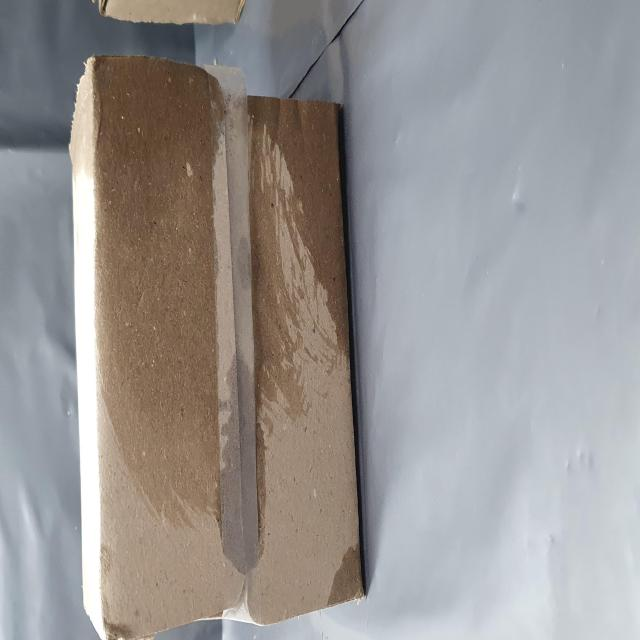wet: (12, 146, 326, 640)
